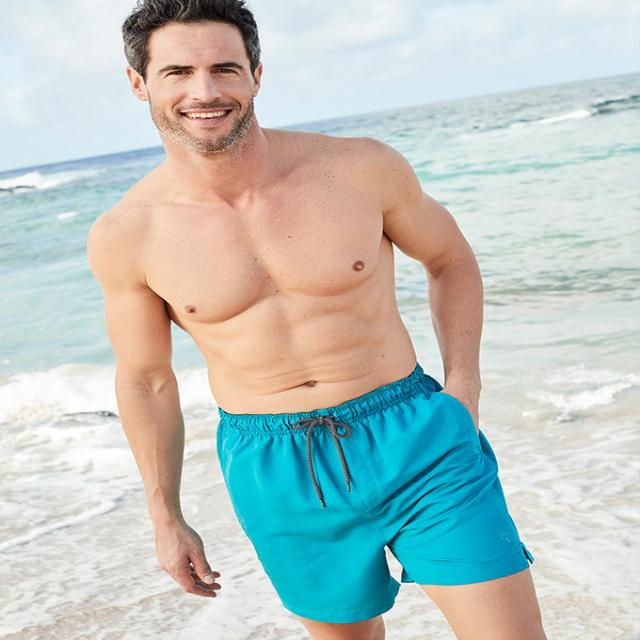mobile_phonerotation: (83, 0, 548, 638)
